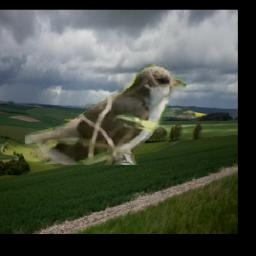Cuckoo: (26, 65, 187, 166)
